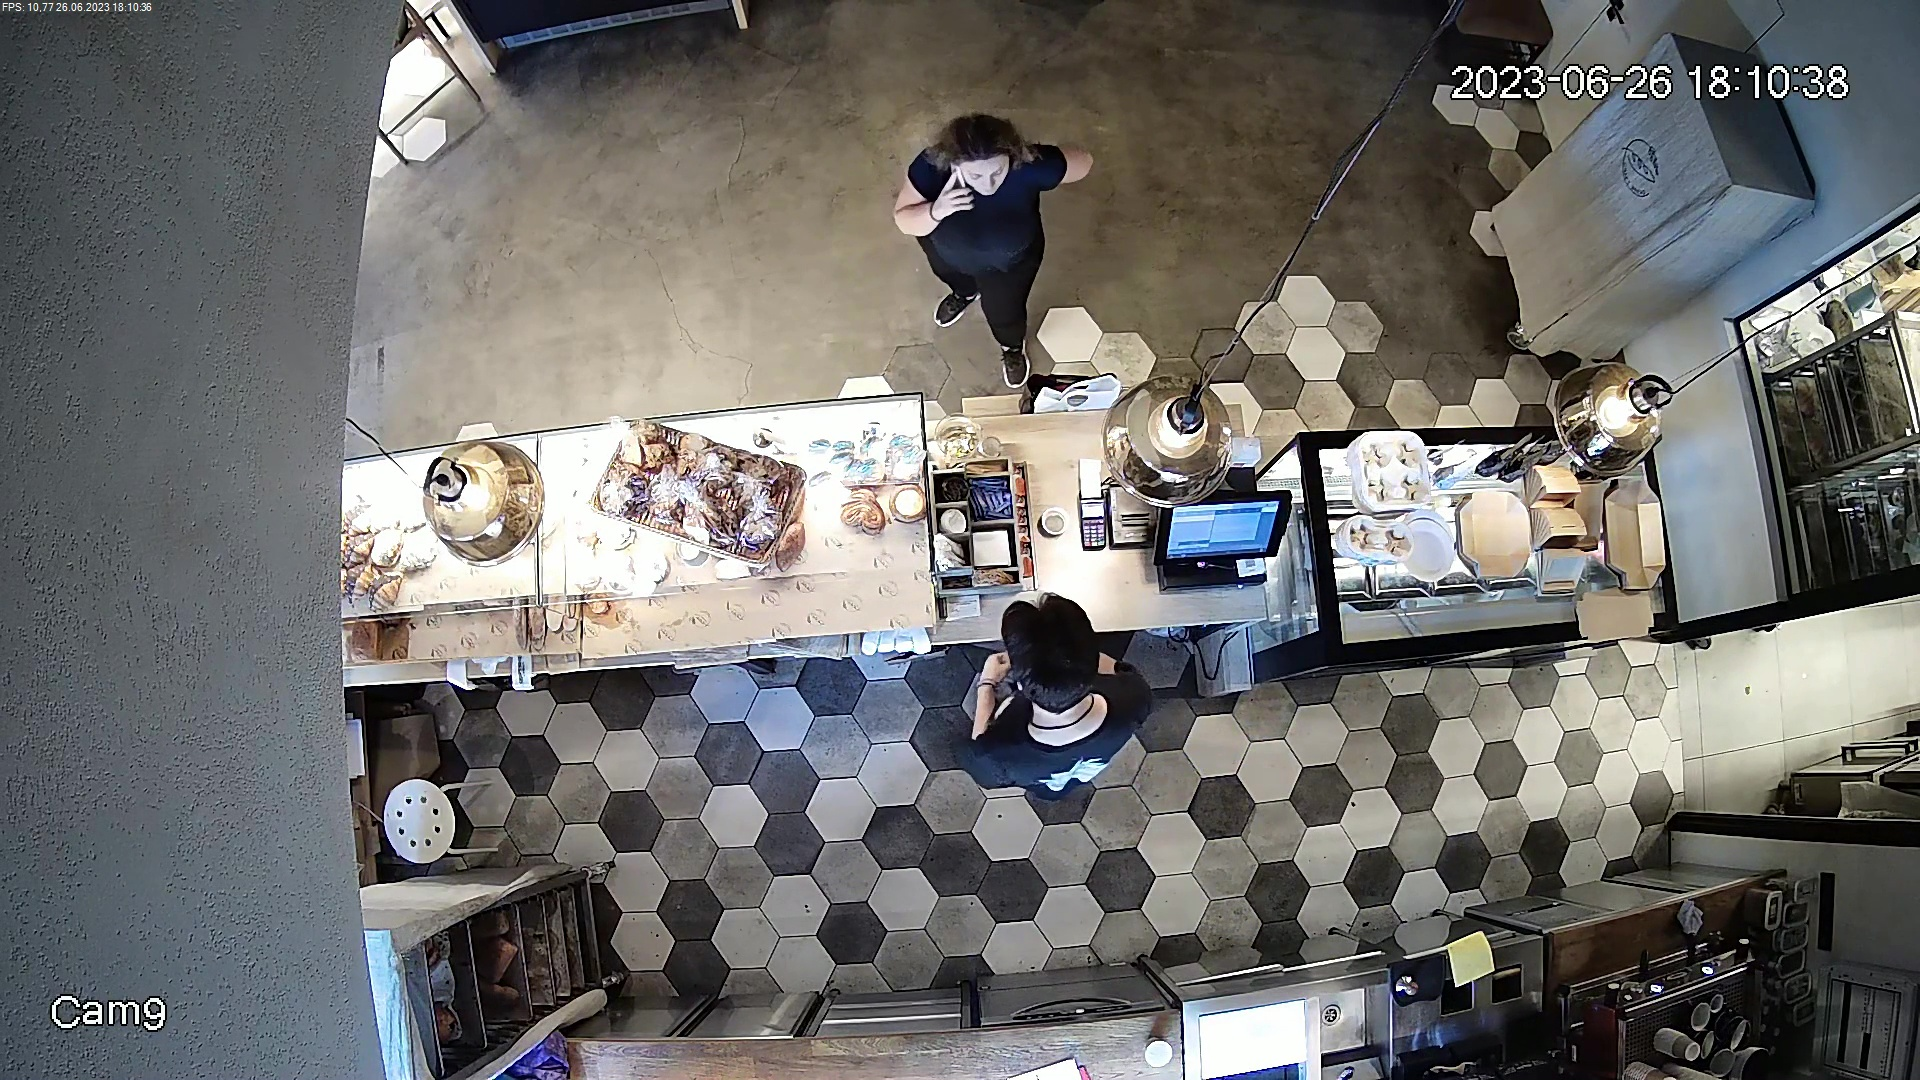barcounter: (363, 411, 1664, 666)
coffee: (1036, 501, 1069, 541)
